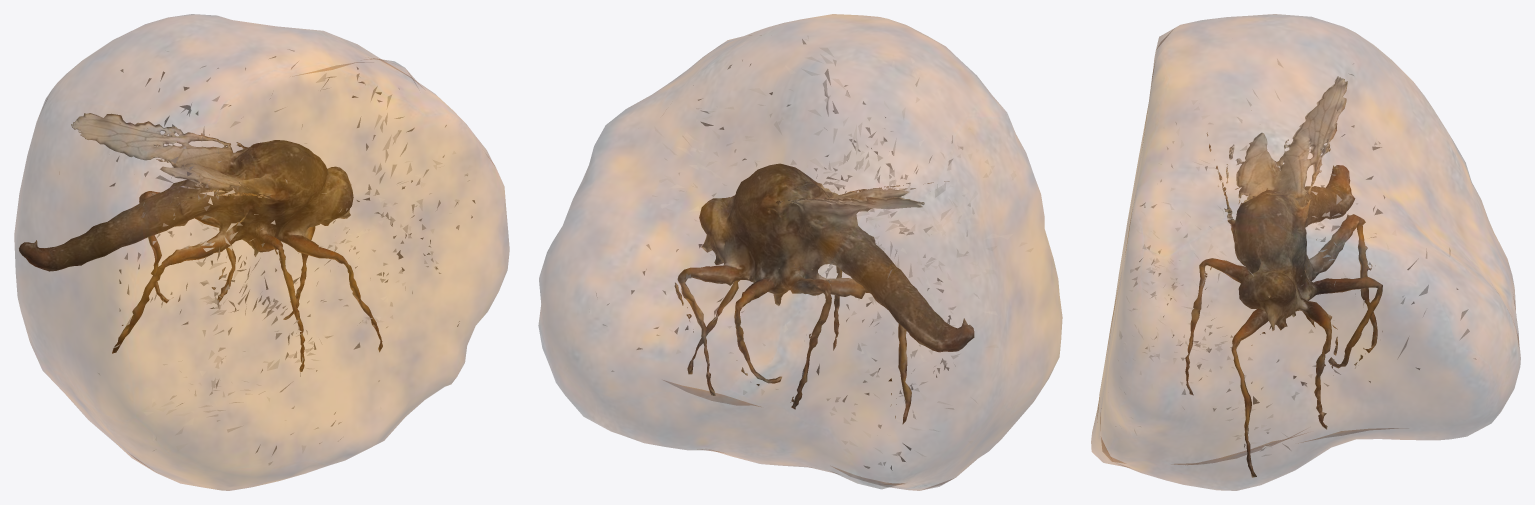
File: amber.glb
The picture shows the model from 3 angles, left to right: view 1: azimuth 30°, elevation 25°; view 2: azimuth 150°, elevation 25°; view 3: azimuth 270°, elevation 25°; orthographic projection. The views are drawn at different scales.
Parts seen in each view (by area): view 1: 5_amber_lr, 2_mosquito_lr, 6_eclats; view 2: 5_amber_lr, 2_mosquito_lr, 6_eclats; view 3: 5_amber_lr, 2_mosquito_lr, 6_eclats.
Boxes of the visible parts, box(x1,y1,x2,y2) form: 5_amber_lr: box(14, 14, 509, 490); 2_mosquito_lr: box(19, 113, 382, 371); 6_eclats: box(98, 49, 475, 465); 5_amber_lr: box(538, 14, 1062, 490); 2_mosquito_lr: box(674, 163, 974, 423); 6_eclats: box(596, 35, 1036, 470); 5_amber_lr: box(1091, 14, 1520, 490); 2_mosquito_lr: box(1185, 76, 1382, 477); 6_eclats: box(1109, 59, 1476, 456).
Size of the model in its own units: 0.0972 by 0.0997 by 0.0879.
Materials: 3 (2 with a texture image).
